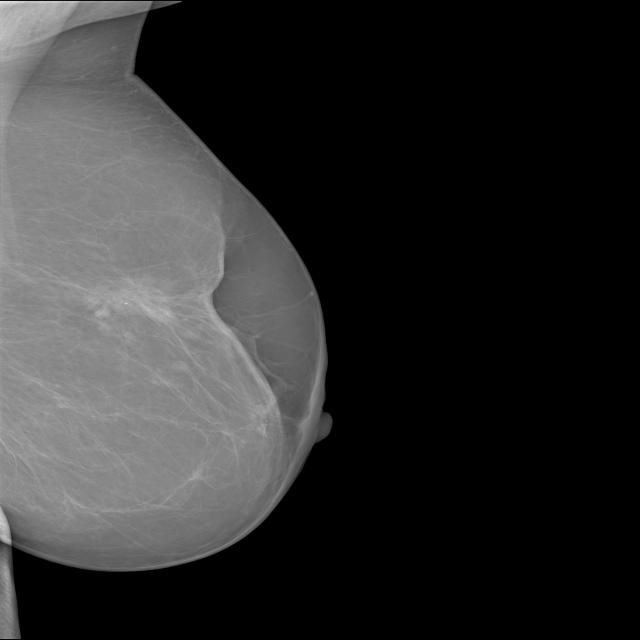Mass_1: (58, 253, 204, 341)
